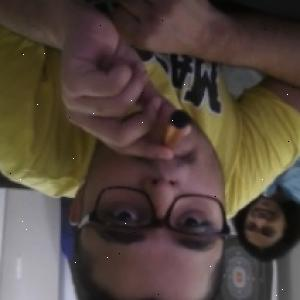Golden-E-Ciggirate: (158, 106, 194, 154)
